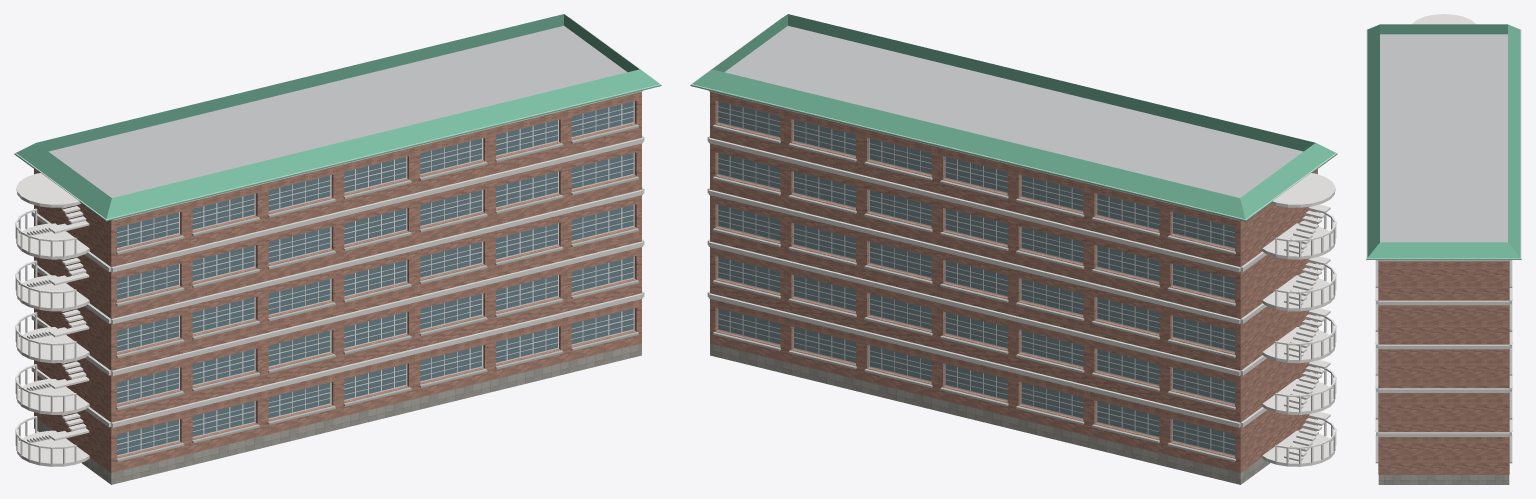
The picture shows the model from 3 angles, left to right: view 1: azimuth 30°, elevation 25°; view 2: azimuth 150°, elevation 25°; view 3: azimuth 270°, elevation 25°; orthographic projection. The views are drawn at different scales.
Parts seen in each view (by area): view 1: west-wing__brick, west-wing__glass, west-wing__roof, west-wing__cap, west-wing__canopy, west-wing__band, west-wing__panel, west-wing__sill, west-wing__stone; view 2: west-wing__brick, west-wing__sideglass, west-wing__roof, west-wing__cap, west-wing__canopy, west-wing__band, west-wing__panel, west-wing__sill, west-wing__stone; view 3: west-wing__roof, west-wing__brick, west-wing__canopy, west-wing__band, west-wing__stone, west-wing__sill, west-wing__cap, west-wing__panel.
Boxes of the visible parts, x1,y1,x2,y2 form: west-wing__brick: (34, 91, 641, 472); west-wing__glass: (117, 101, 633, 455); west-wing__roof: (48, 26, 626, 197); west-wing__cap: (15, 17, 660, 464); west-wing__canopy: (14, 14, 661, 221); west-wing__band: (31, 90, 644, 427); west-wing__panel: (16, 173, 89, 466); west-wing__sill: (116, 124, 638, 461); west-wing__stone: (34, 343, 641, 484); west-wing__brick: (710, 91, 1317, 472); west-wing__sideglass: (718, 101, 1234, 455); west-wing__roof: (725, 26, 1303, 197); west-wing__cap: (691, 17, 1336, 464); west-wing__canopy: (690, 14, 1337, 221); west-wing__band: (707, 90, 1320, 427); west-wing__panel: (1262, 173, 1335, 466); west-wing__sill: (713, 124, 1235, 461); west-wing__stone: (710, 343, 1317, 484); west-wing__roof: (1380, 34, 1507, 242); west-wing__brick: (1378, 260, 1509, 474); west-wing__canopy: (1366, 24, 1521, 259); west-wing__band: (1376, 260, 1511, 436); west-wing__stone: (1378, 475, 1509, 484); west-wing__sill: (1375, 260, 1512, 463); west-wing__cap: (1366, 29, 1521, 258); west-wing__panel: (1412, 14, 1475, 24).
Bounding box in the file's own units: 40.86 × 18.76 × 10.9.
11 materials, 2 textured.
